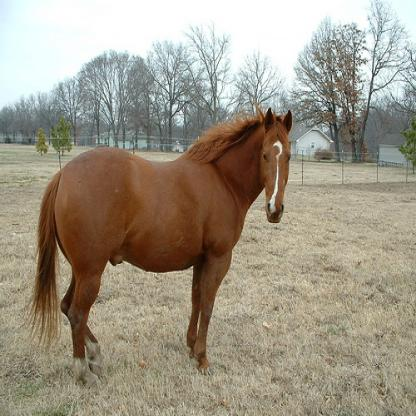horse: (32, 108, 292, 382)
